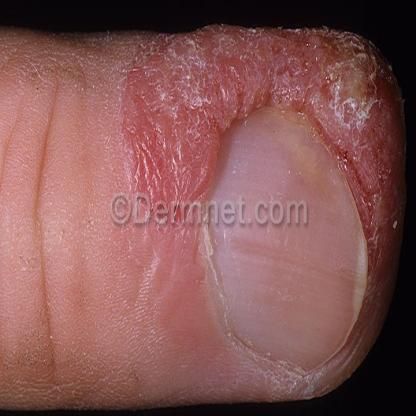Eczema: (130, 100, 205, 244), (289, 26, 364, 128), (186, 22, 263, 114), (344, 104, 404, 222)
